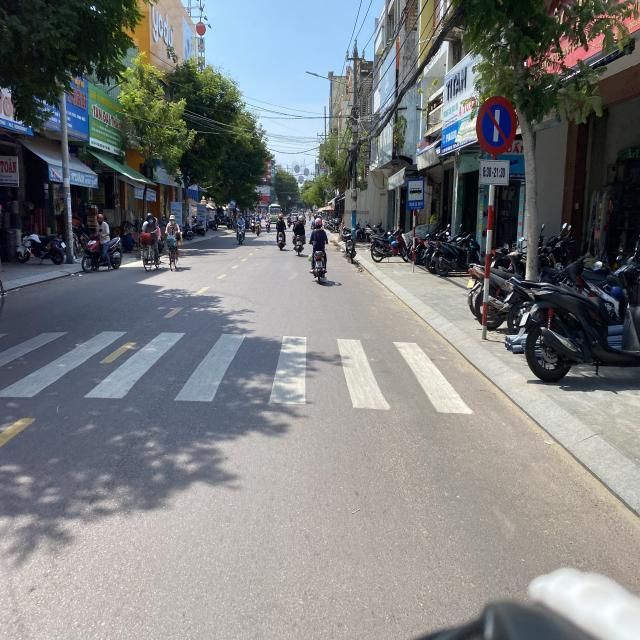walk-crossing: (0, 327, 524, 422)
